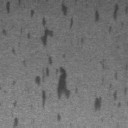red iron: (2, 0, 78, 122), (94, 72, 121, 110), (94, 3, 119, 22), (13, 117, 18, 128), (13, 100, 16, 108)
